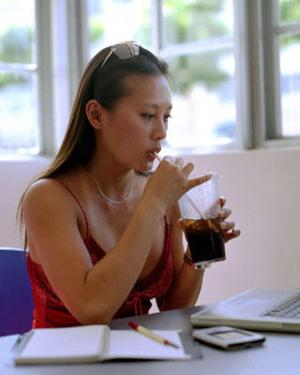person: (21, 39, 244, 337)
